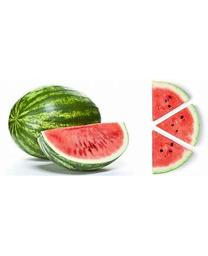watermelon: (8, 86, 129, 170), (150, 80, 200, 177)
